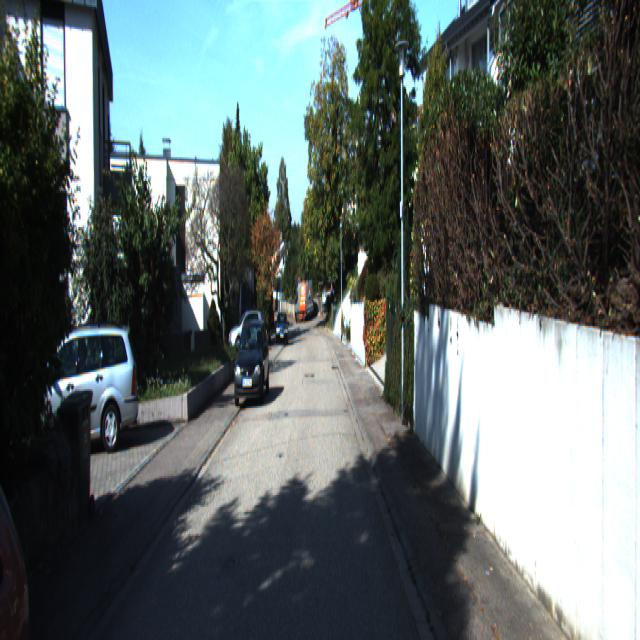Car: (0, 318, 139, 470), (233, 317, 270, 408), (228, 308, 266, 352), (294, 280, 314, 322), (276, 312, 288, 346)
